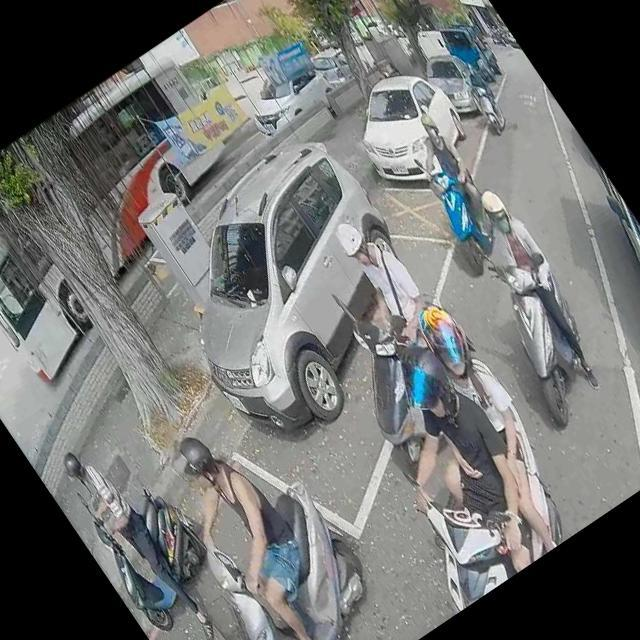person: (330, 326, 570, 604), (364, 301, 592, 575), (140, 409, 362, 640), (456, 174, 624, 396), (51, 433, 218, 640), (311, 208, 444, 360), (388, 102, 492, 228), (461, 61, 488, 92)
